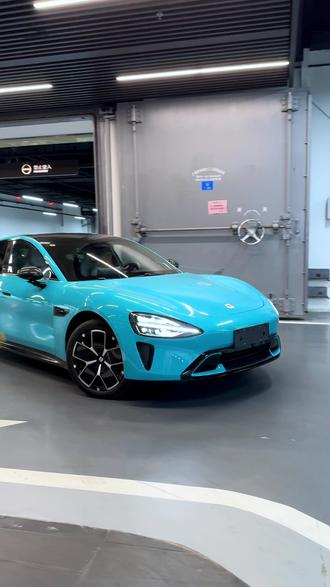su7: (0, 232, 281, 400)
